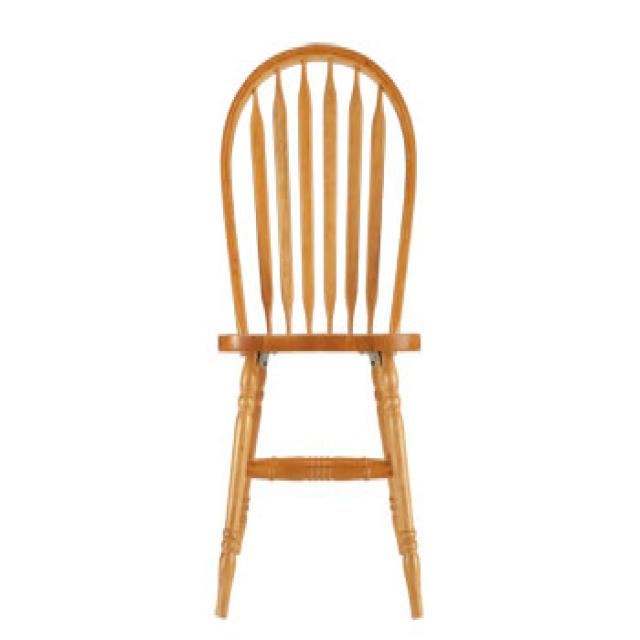chair: (212, 40, 424, 620)
